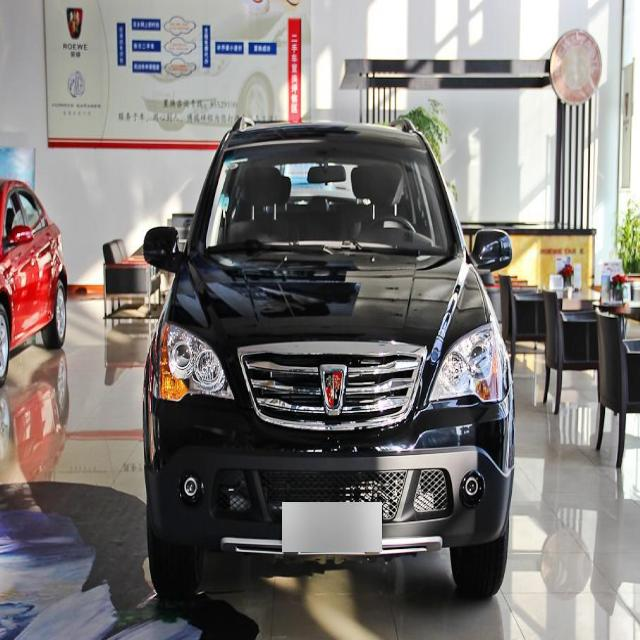front_bumper: (143, 428, 515, 560)
front_glass: (202, 139, 453, 259)
front_left_side_light: (426, 322, 512, 406)
front_left_side_mirror: (472, 228, 513, 272)
front_right_side_light: (148, 319, 236, 404)
front_right_side_mirror: (142, 224, 184, 275)
